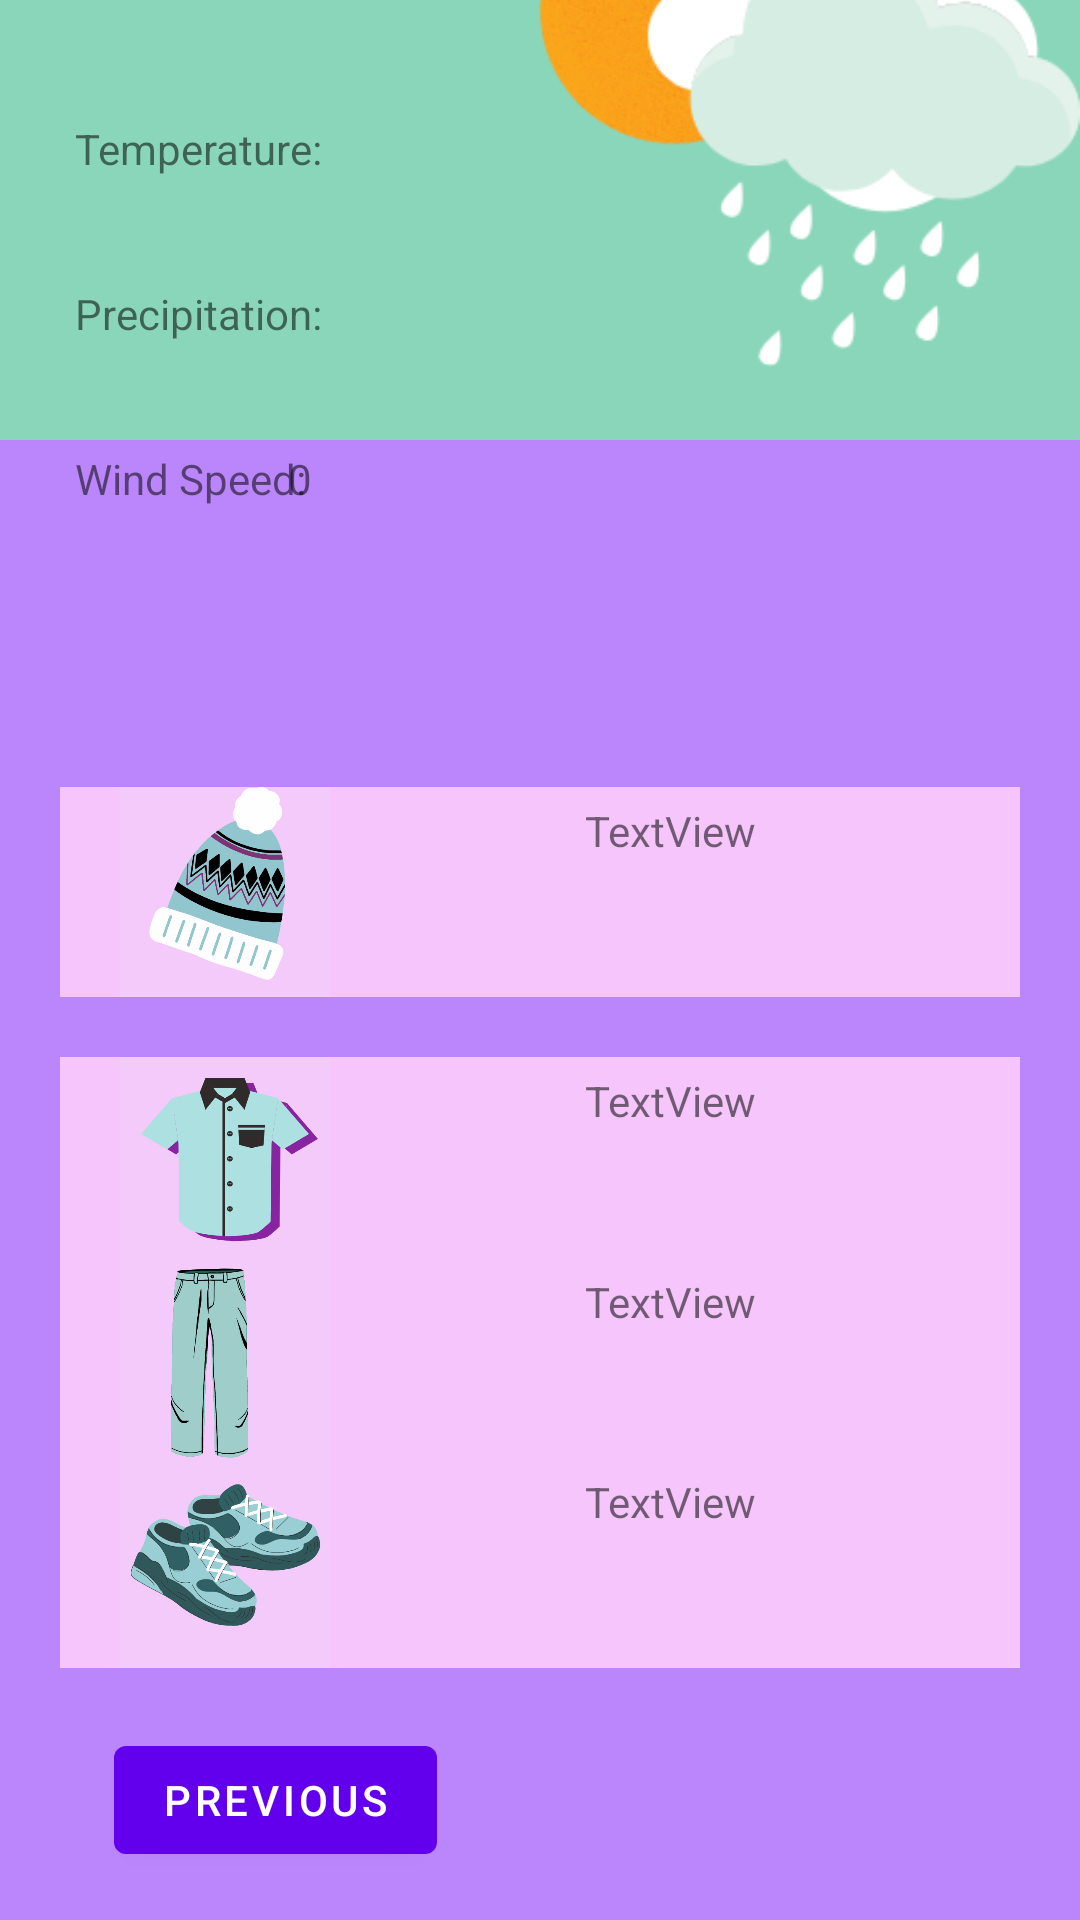

Screen size 1080 × 1920. Icon name, then its center in pixels as (x,y):
jeans: (209,1363)
shirt: (229,1159)
sneakers: (225,1555)
toque: (225,892)
